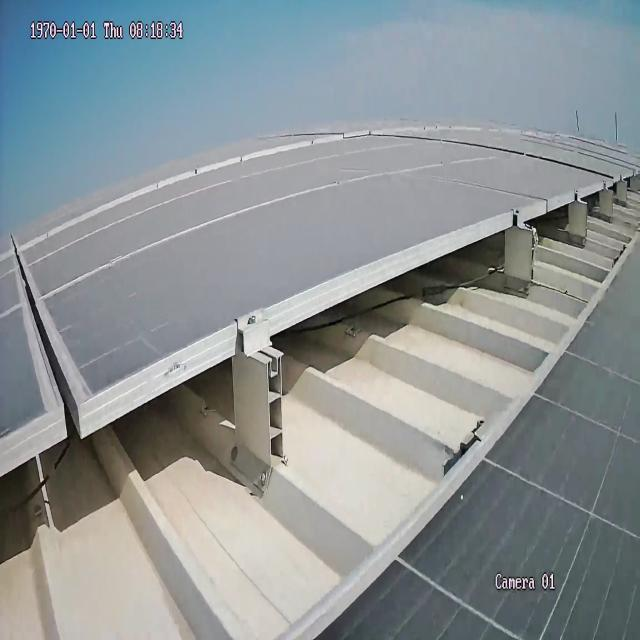interior panel: (10, 252, 82, 401)
outher panel: (0, 167, 640, 640)
